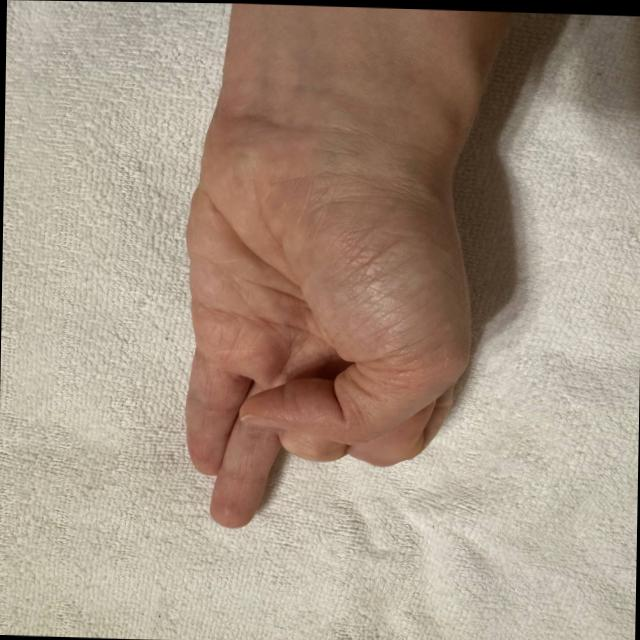i: (156, 124, 514, 552)
